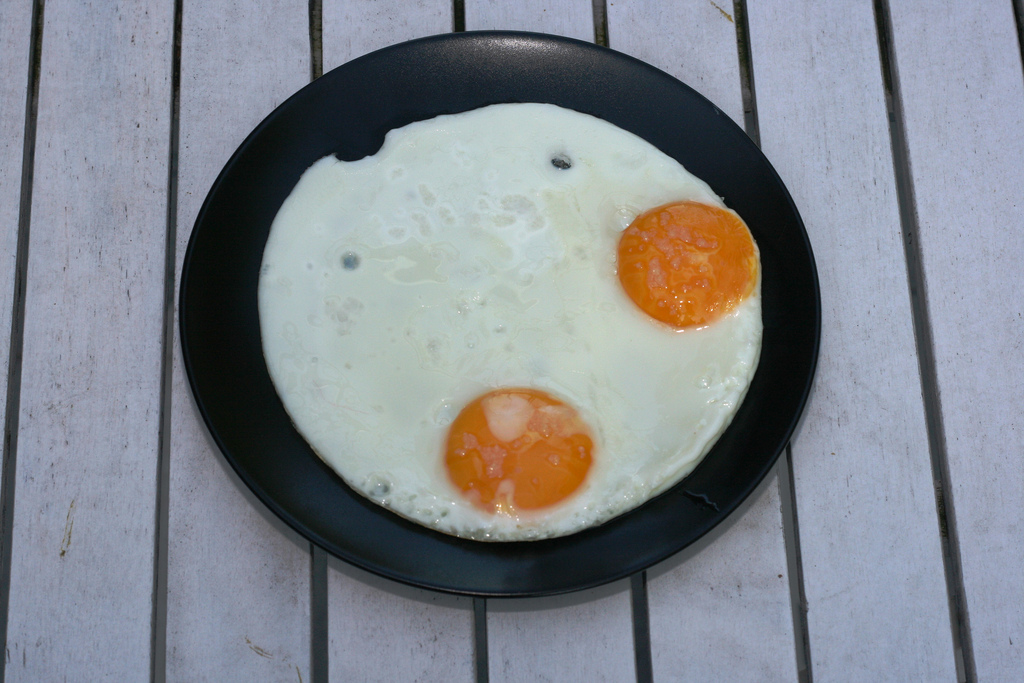fried egg: (344, 155, 761, 346), (273, 332, 686, 522)
